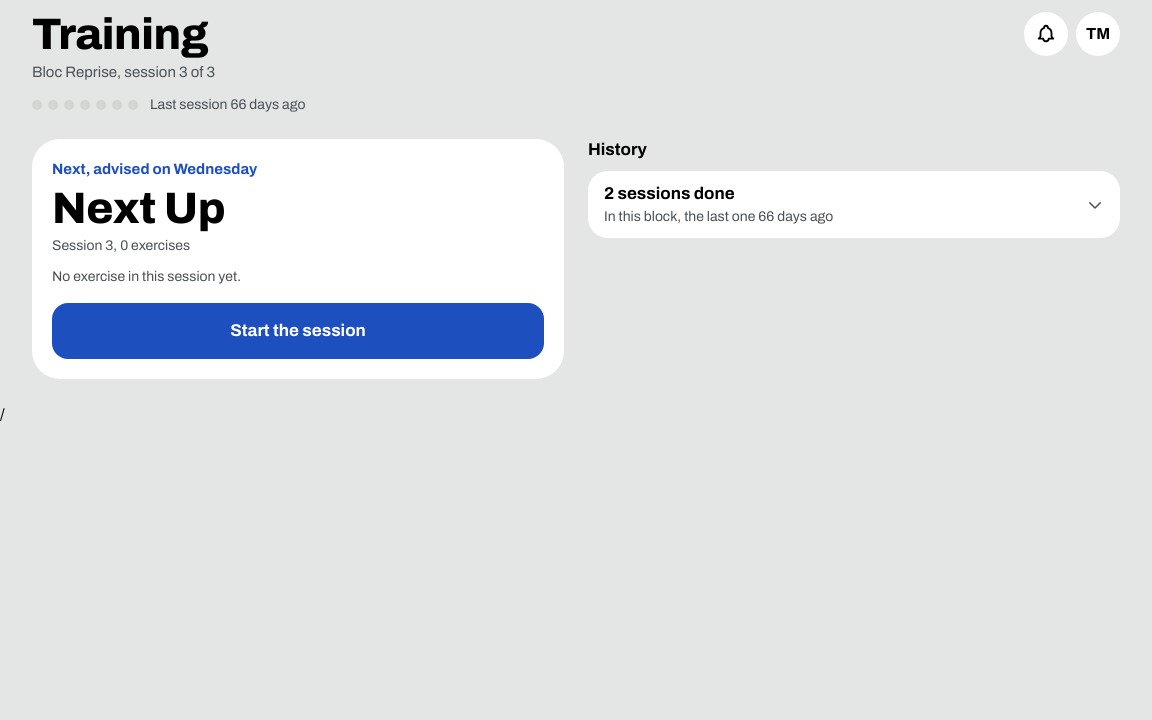
it: StudentTraining › collapses the active block finished sessions into a row that opens
Expected: the text "Old Push" is not shown
Expected: the text "Old Pull" is not shown
Click the button "2 sessions done In this block, the last one 66 days ago" at (669, 193), box [604, 171, 1104, 238]
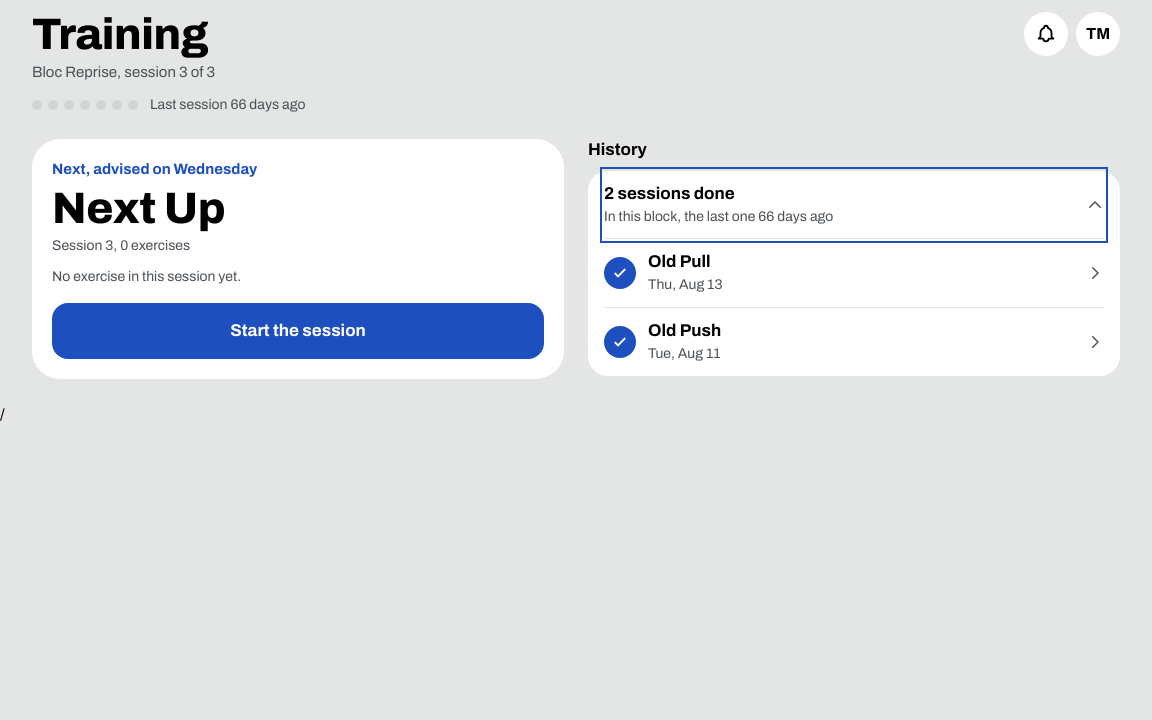
Expected: the button "2 sessions done In this block, the last one 66 days ago" is expanded
Expected: the text "Old Push" is shown, [648, 321, 721, 340]
Expected: the text "Old Pull" is shown, [648, 252, 711, 271]
// Closed again, it builds nothing.
Click the button "2 sessions done In this block, the last one 66 days ago" at (669, 193), box [604, 171, 1104, 239]
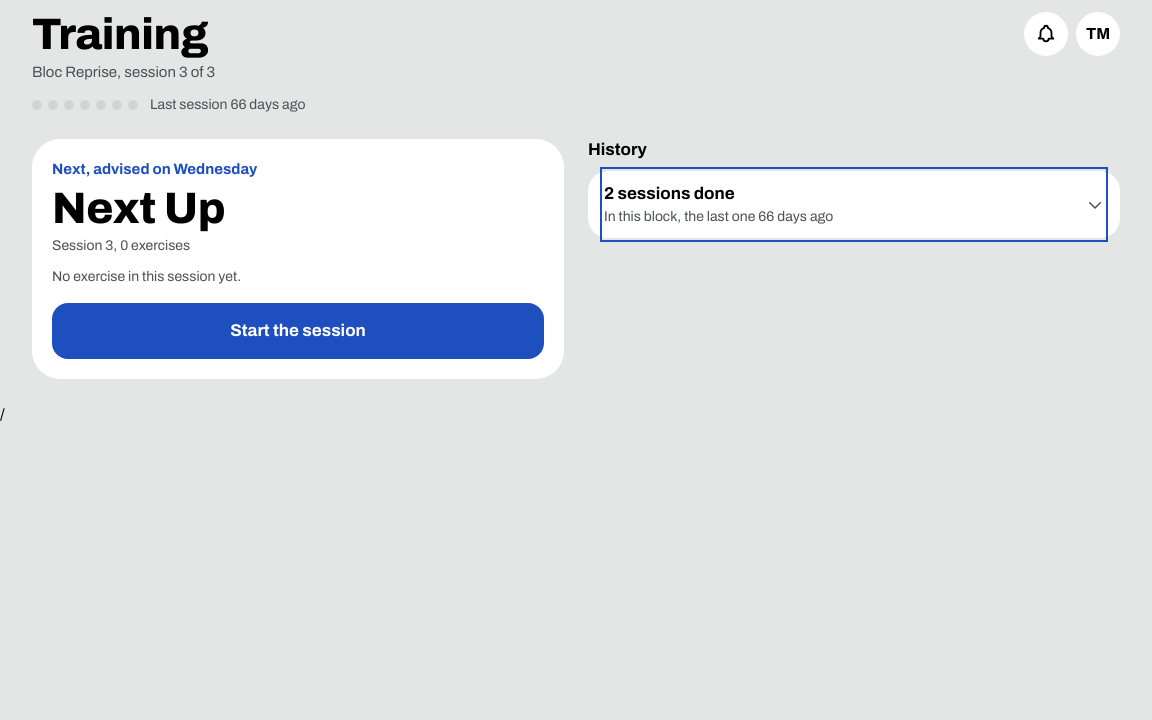
Expected: the link "Old Push" is gone
